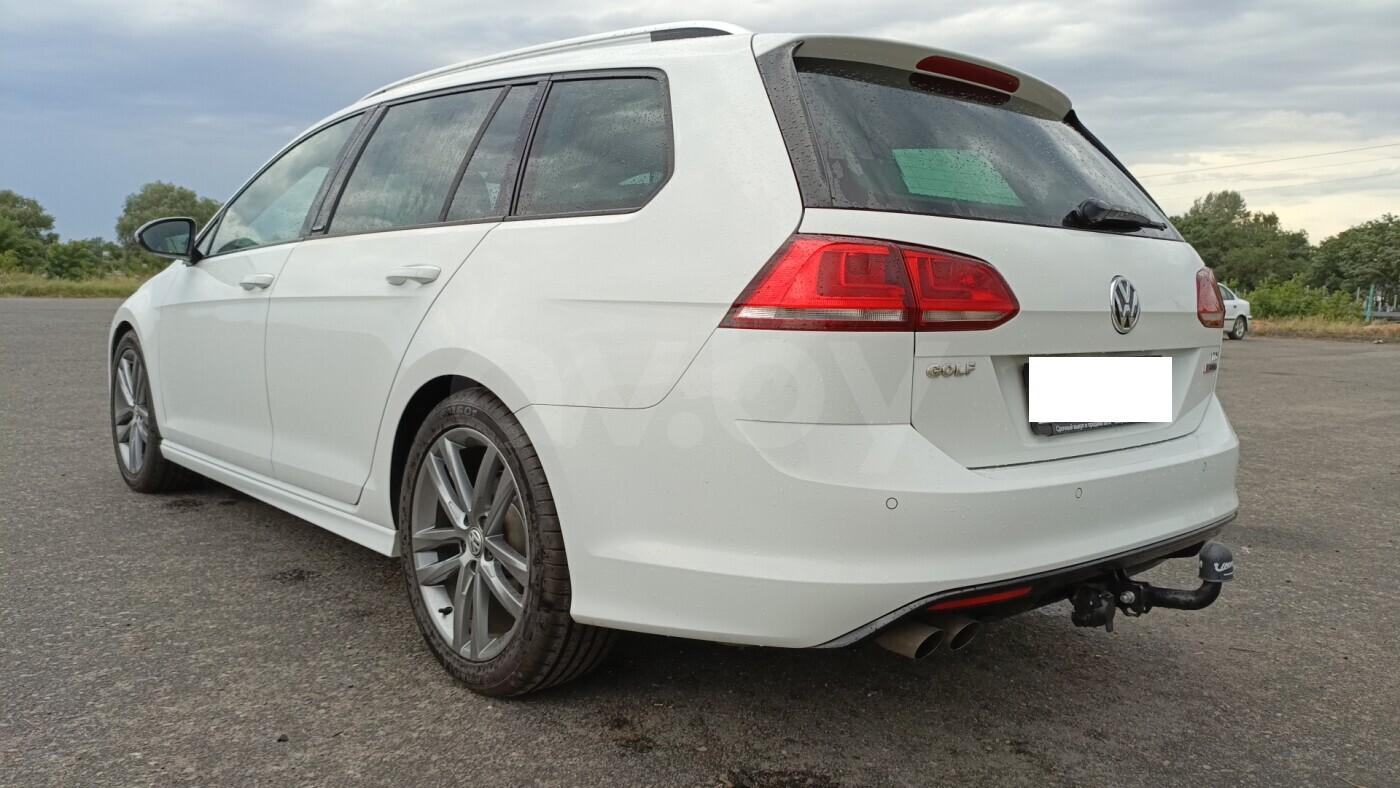Golf_2012-2017: (107, 30, 1242, 698)
